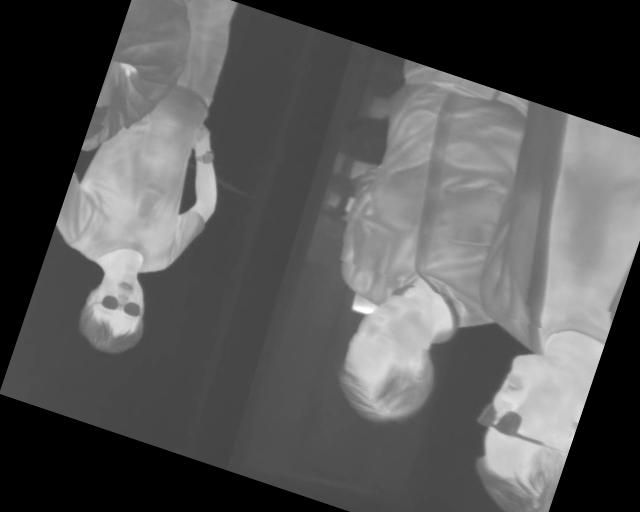face: (454, 344, 594, 512), (326, 285, 459, 436), (70, 258, 160, 363)
